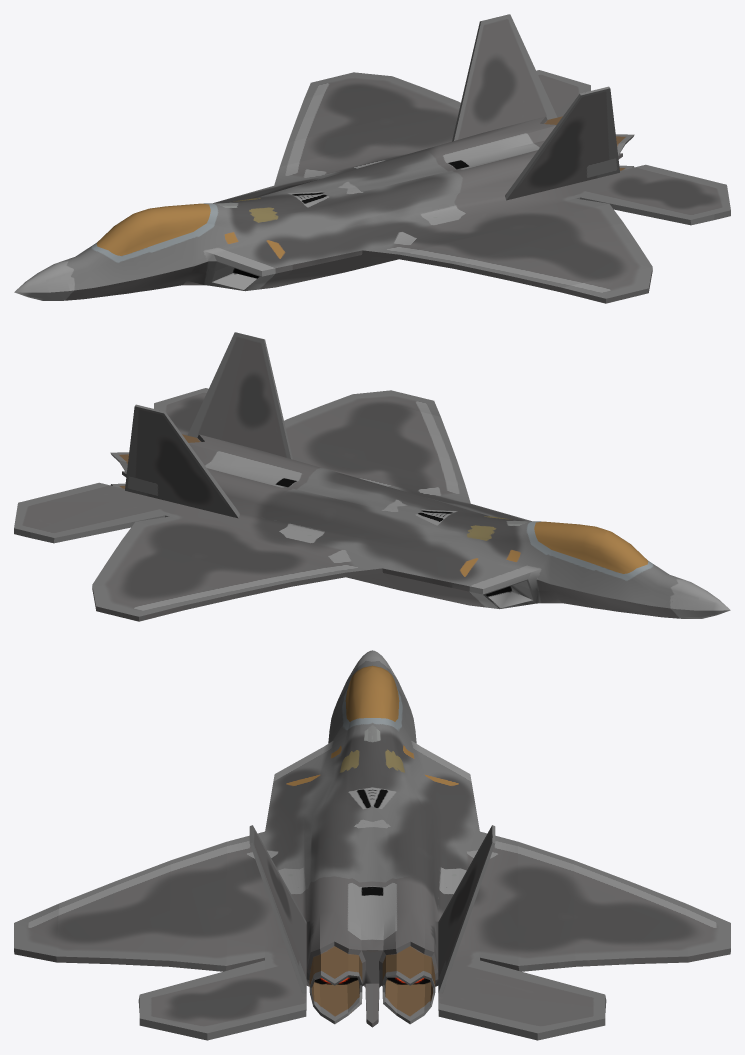
3 renders of one model, top to bottom at view 1: azimuth 30°, elevation 25°; view 2: azimuth 150°, elevation 25°; view 3: azimuth 270°, elevation 25°, orthographic. The views are drawn at different scales.
Bounding box in the file's own units: 113 × 24.12 × 89.85.
Materials: 2 (2 with a texture image).
